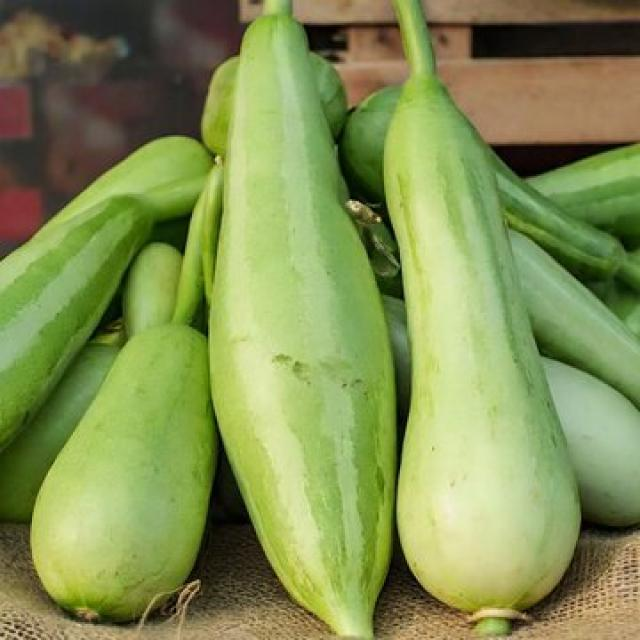Bottle Gourd: (377, 0, 583, 638), (204, 0, 398, 638), (27, 322, 218, 624), (0, 336, 121, 524)
Radish: (267, 0, 638, 530)
